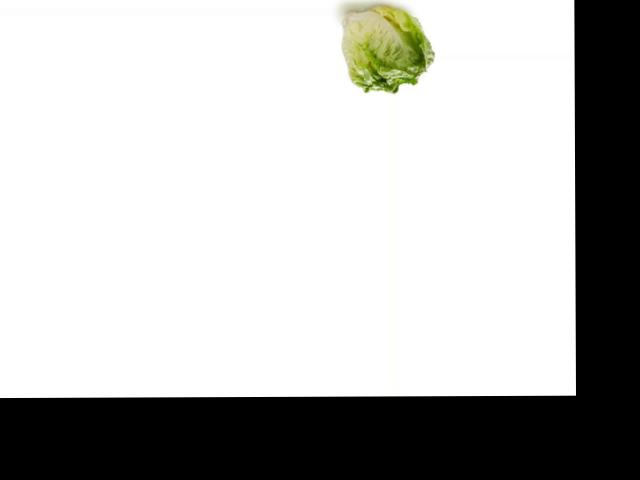lettuce: (335, 7, 439, 96)
